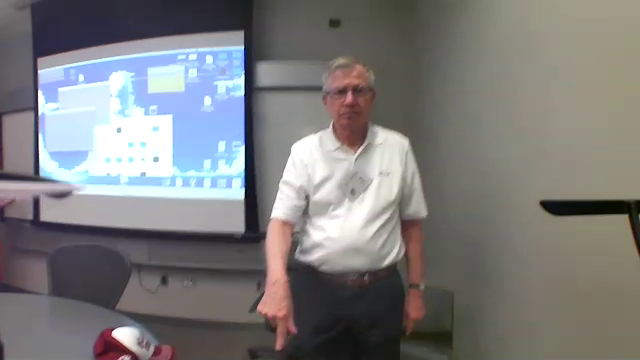down: (249, 268, 306, 357), (401, 292, 429, 339)
